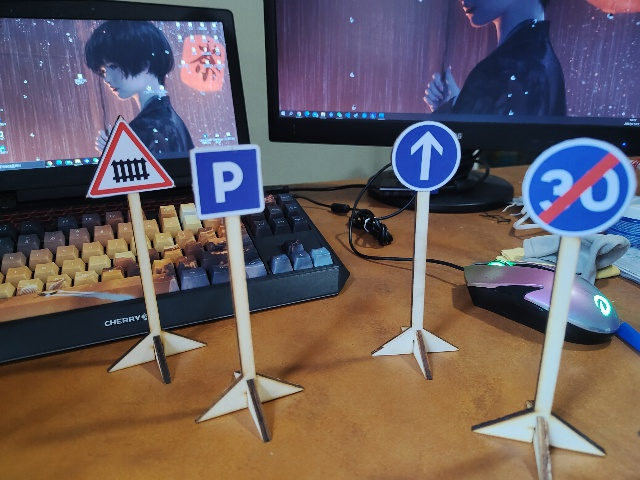P: (190, 143, 266, 219)
ban: (524, 136, 633, 237)
straight: (392, 118, 461, 190)
train: (88, 117, 175, 196)
